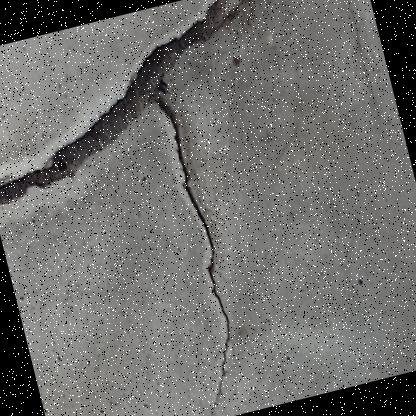Crack: (0, 0, 401, 226), (124, 165, 289, 415)
